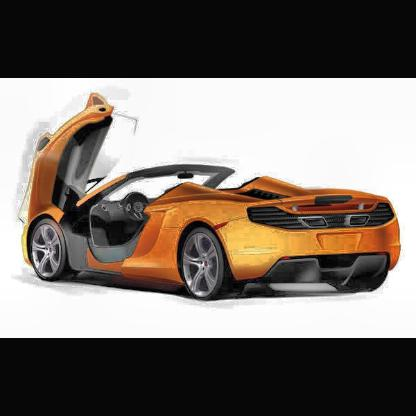McLaren MP4-12C Coupe 2012: (19, 93, 403, 303)
